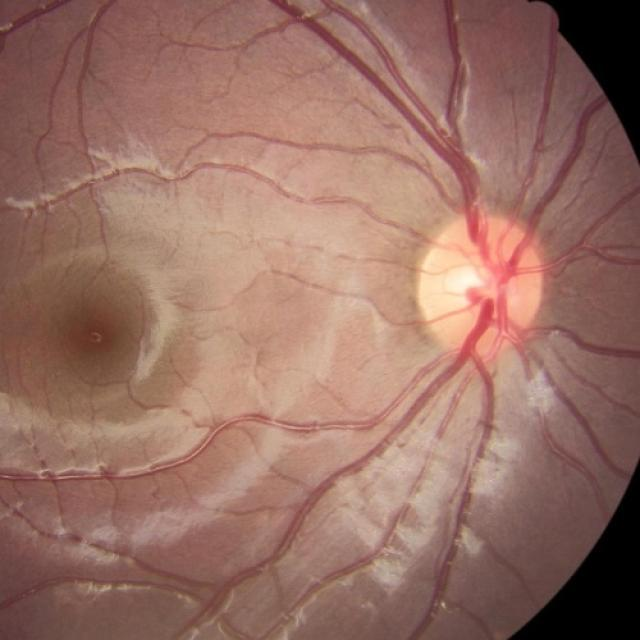OC: (447, 265, 493, 313)
OD: (418, 218, 541, 353)
